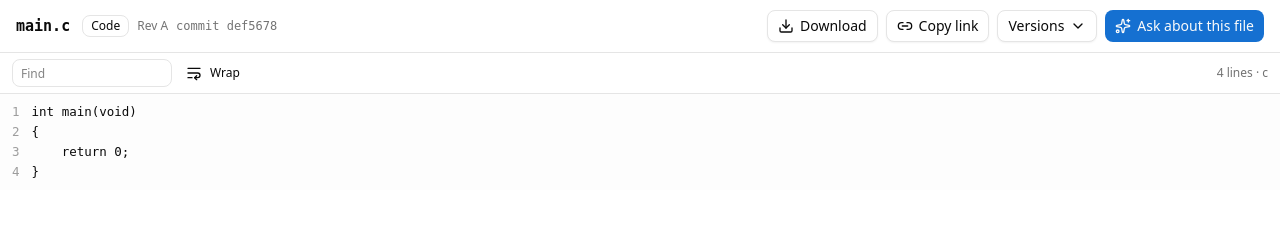
Test: File viewer › Versions offers Compare with previous, and the comparison is line by line
Step 1. Click the button "Versions" → point(1047, 26), box [997, 10, 1097, 42]
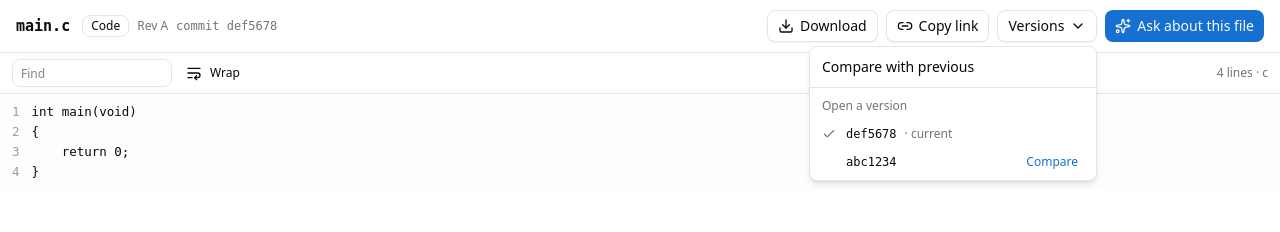
Step 2. Click the menu item "Compare with previous" → point(898, 66), box [822, 57, 974, 76]
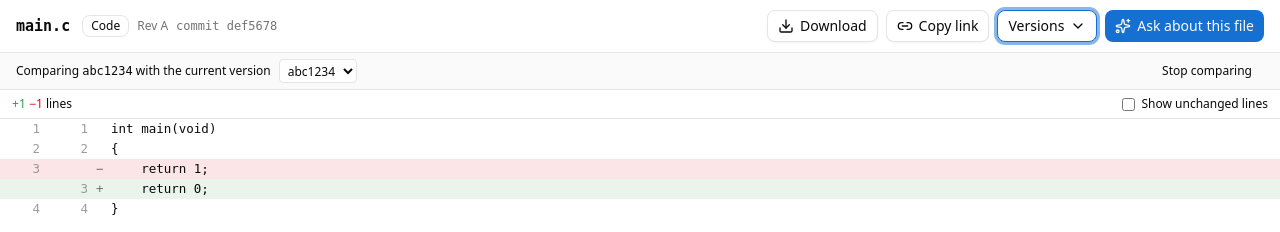
Now the text "Comparing abc1234 with the current version" is shown, box [16, 63, 271, 79]
Now the text "return 1;" is shown, box [111, 161, 209, 176]
Now the text "+1" is shown, box [12, 95, 26, 112]
Step 3. Click the button "Stop comparing" → point(1207, 71), box [1150, 59, 1264, 83]
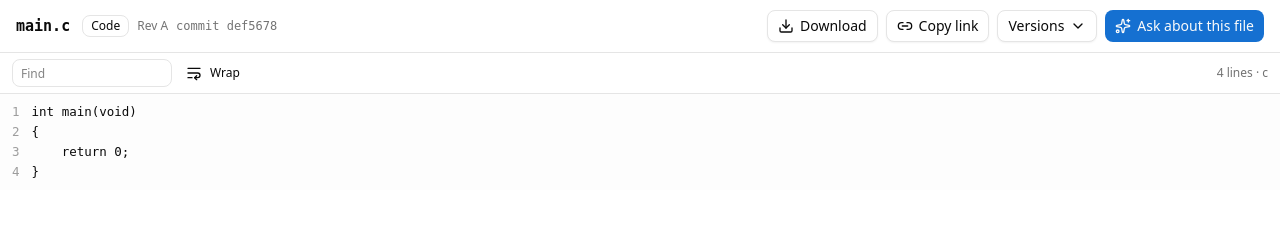
Now the text "Comparing" is gone
